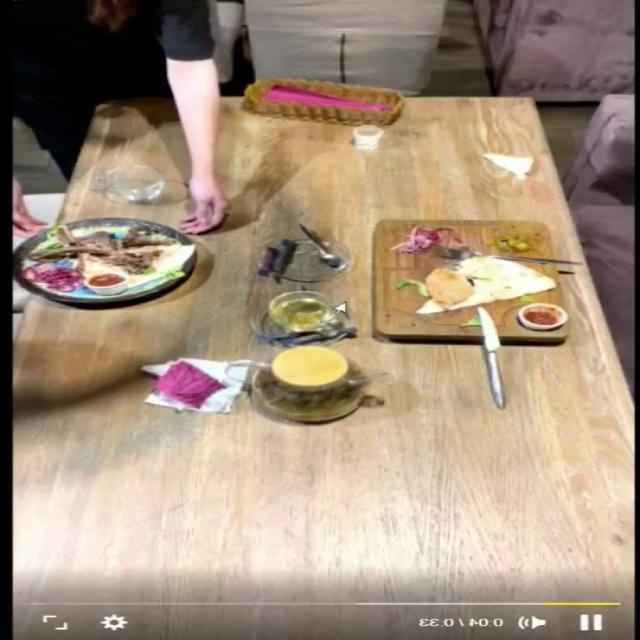meat: (373, 219, 569, 341), (10, 222, 227, 320)
tea: (264, 344, 372, 431)
